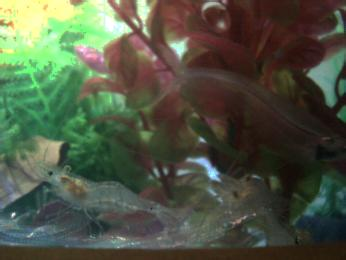glassfish: (147, 50, 345, 153), (1, 201, 111, 247)
siberian prawn: (33, 152, 192, 227), (202, 171, 301, 243)
